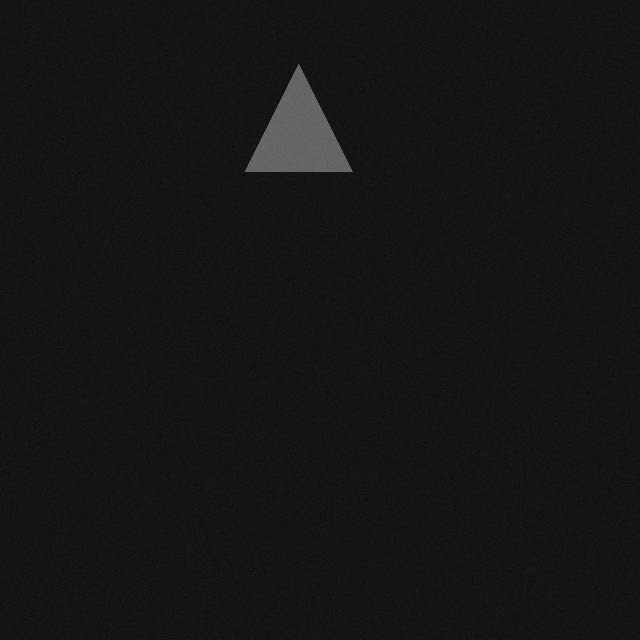triangle: (252, 75, 359, 182)
